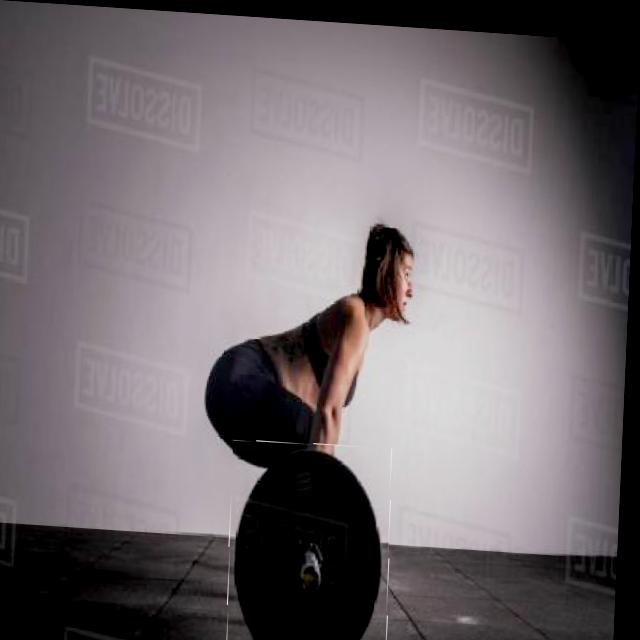barbell: (231, 436, 399, 640)
